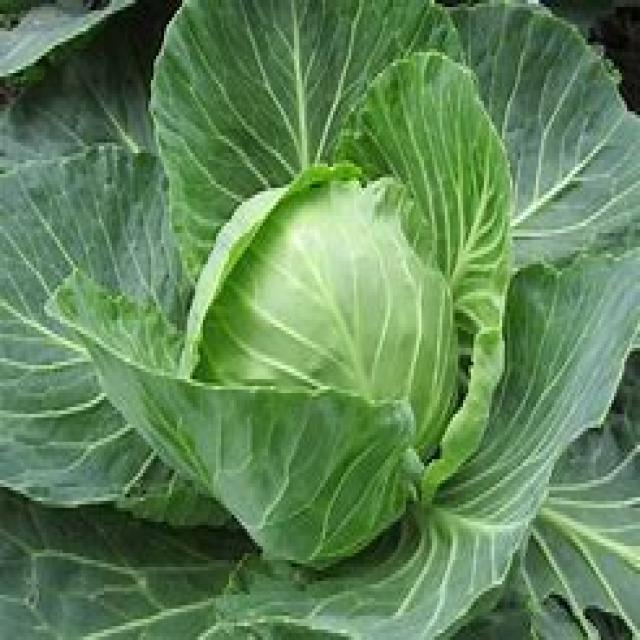cabbage: (169, 154, 475, 500)
